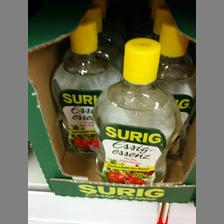Essig: (94, 37, 177, 182), (51, 16, 122, 162)
